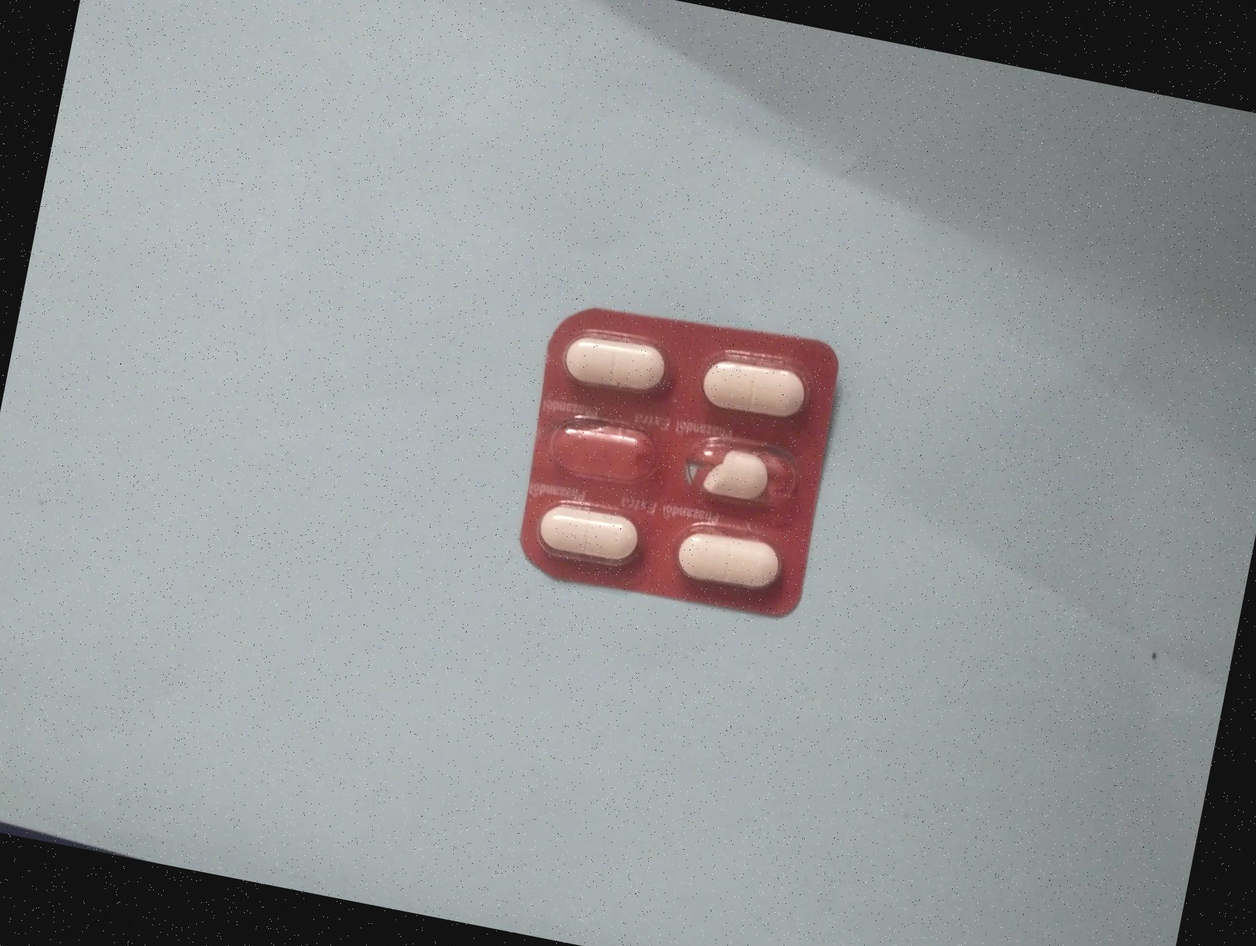Empty: (539, 410, 665, 498)
Full: (556, 323, 685, 404), (667, 525, 792, 605), (696, 350, 820, 429), (535, 498, 651, 572)
